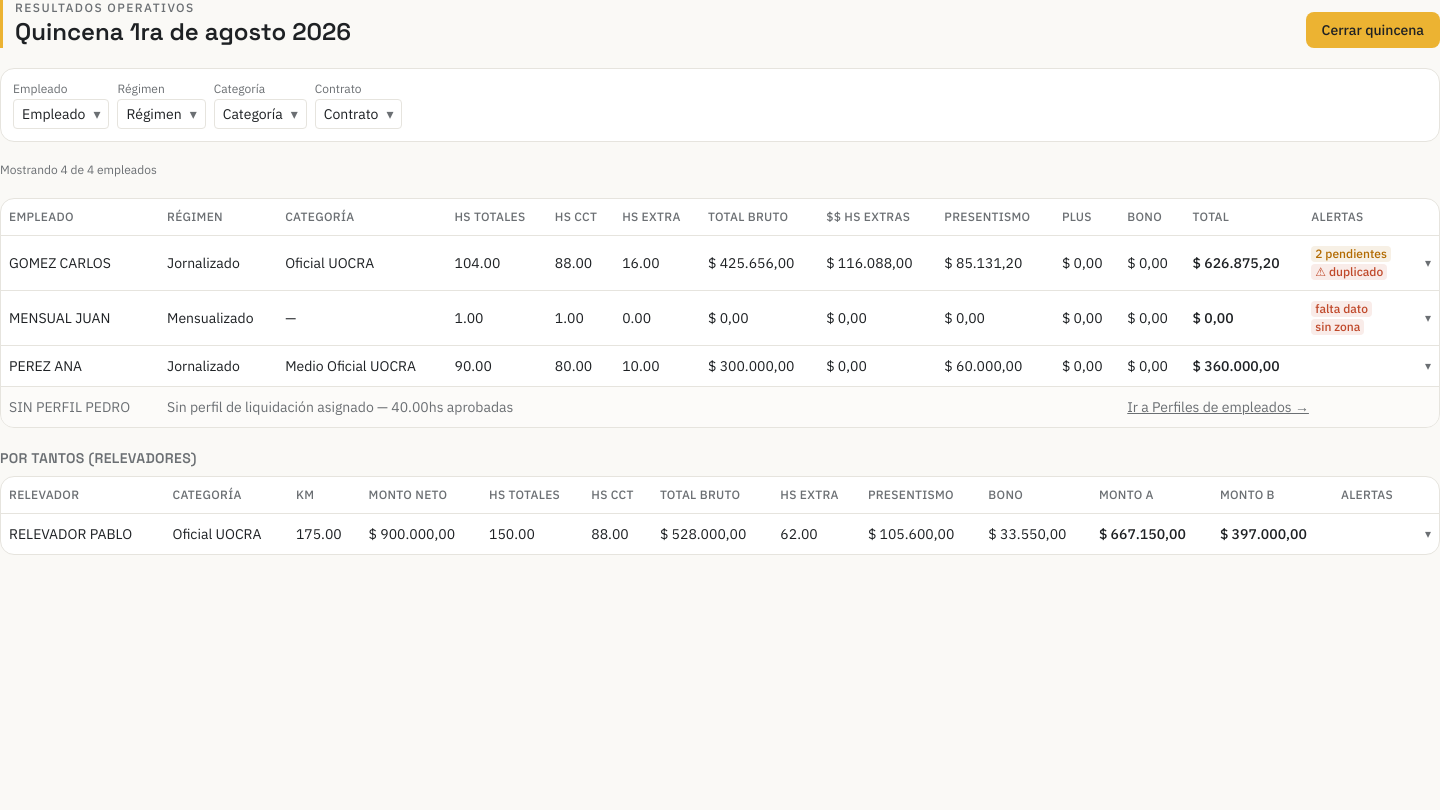
Test case: DetalleQuincenaPage › spec §6.4: la salvedad "sin zona" aparece en el diálogo de cierre cuando hay filas con zona null
Click the button "Cerrar quincena" at (1373, 30), box [1306,12,1439,48]
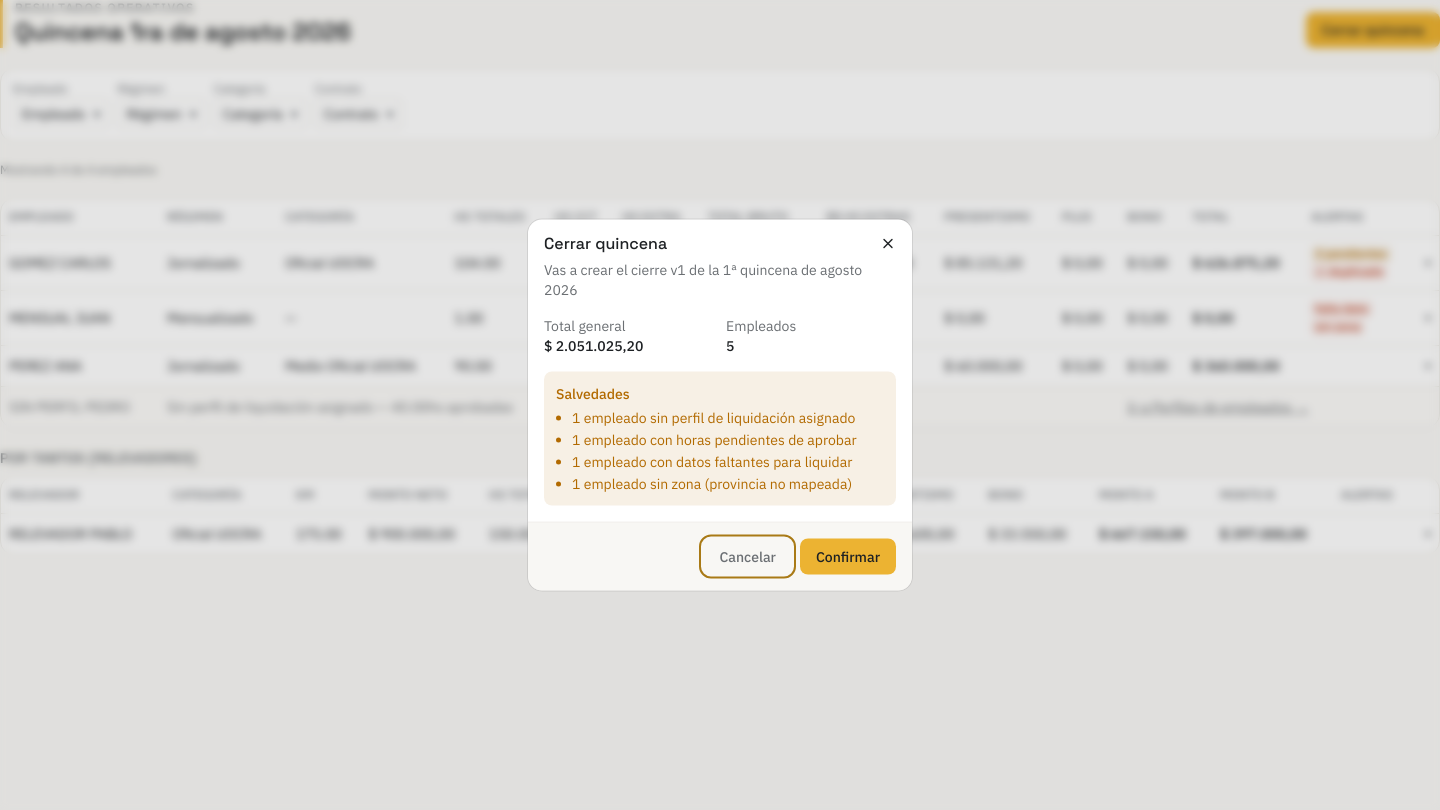
Now the list item "1 empleado sin zona (provincia no mapeada)" is shown, box [572,474,884,494]
